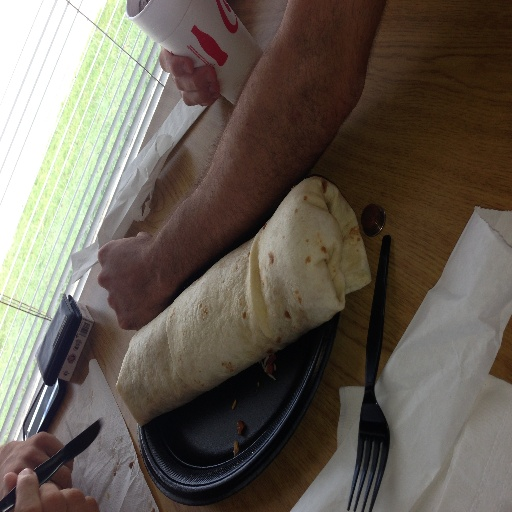hand: (96, 231, 176, 332), (148, 25, 232, 111), (0, 430, 75, 511), (3, 469, 98, 511)
